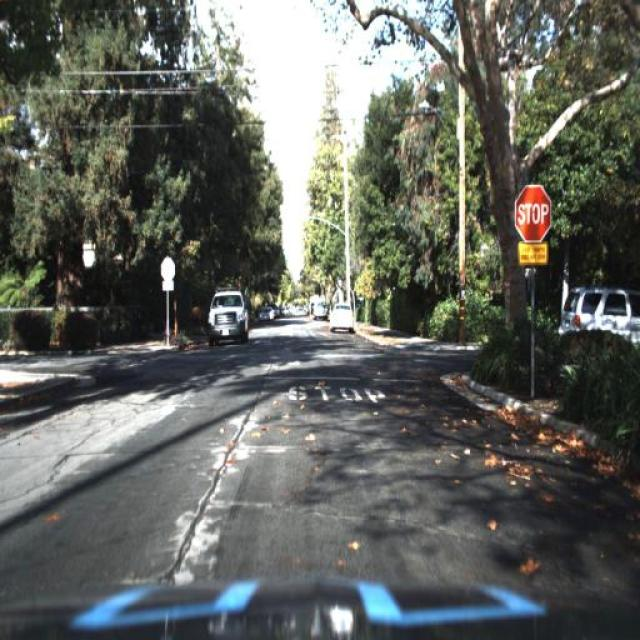car: (558, 276, 640, 355), (547, 276, 639, 340), (204, 287, 250, 349), (327, 298, 357, 338), (328, 299, 358, 331)
